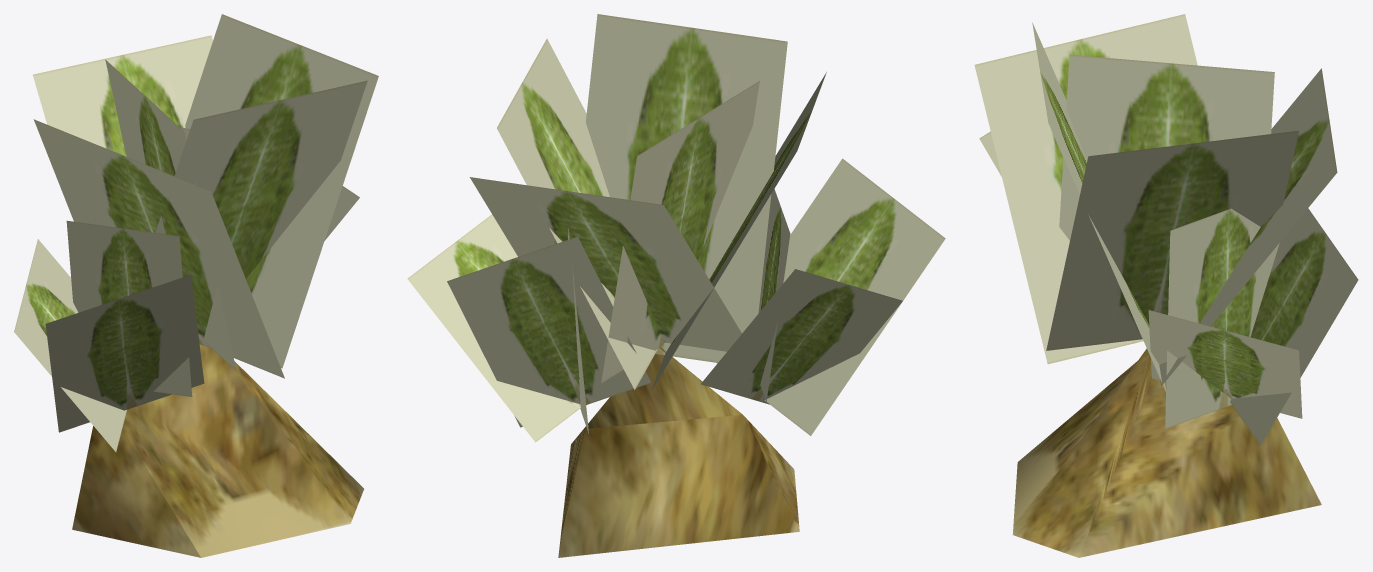
The model's file is leaf_charbote_l2.fbx.
3 renders of one model, left to right at view 1: azimuth 30°, elevation 25°; view 2: azimuth 150°, elevation 25°; view 3: azimuth 270°, elevation 25°, orthographic.
Visible parts, largest first — view 1: mesh_node; view 2: mesh_node; view 3: mesh_node.
Boxes of the visible parts, x1,y1,x2,y2 form: mesh_node: [14, 14, 378, 557]; mesh_node: [407, 14, 945, 557]; mesh_node: [974, 14, 1358, 557].
Size of the model in its own units: 1.09 by 1.12 by 0.8839.
